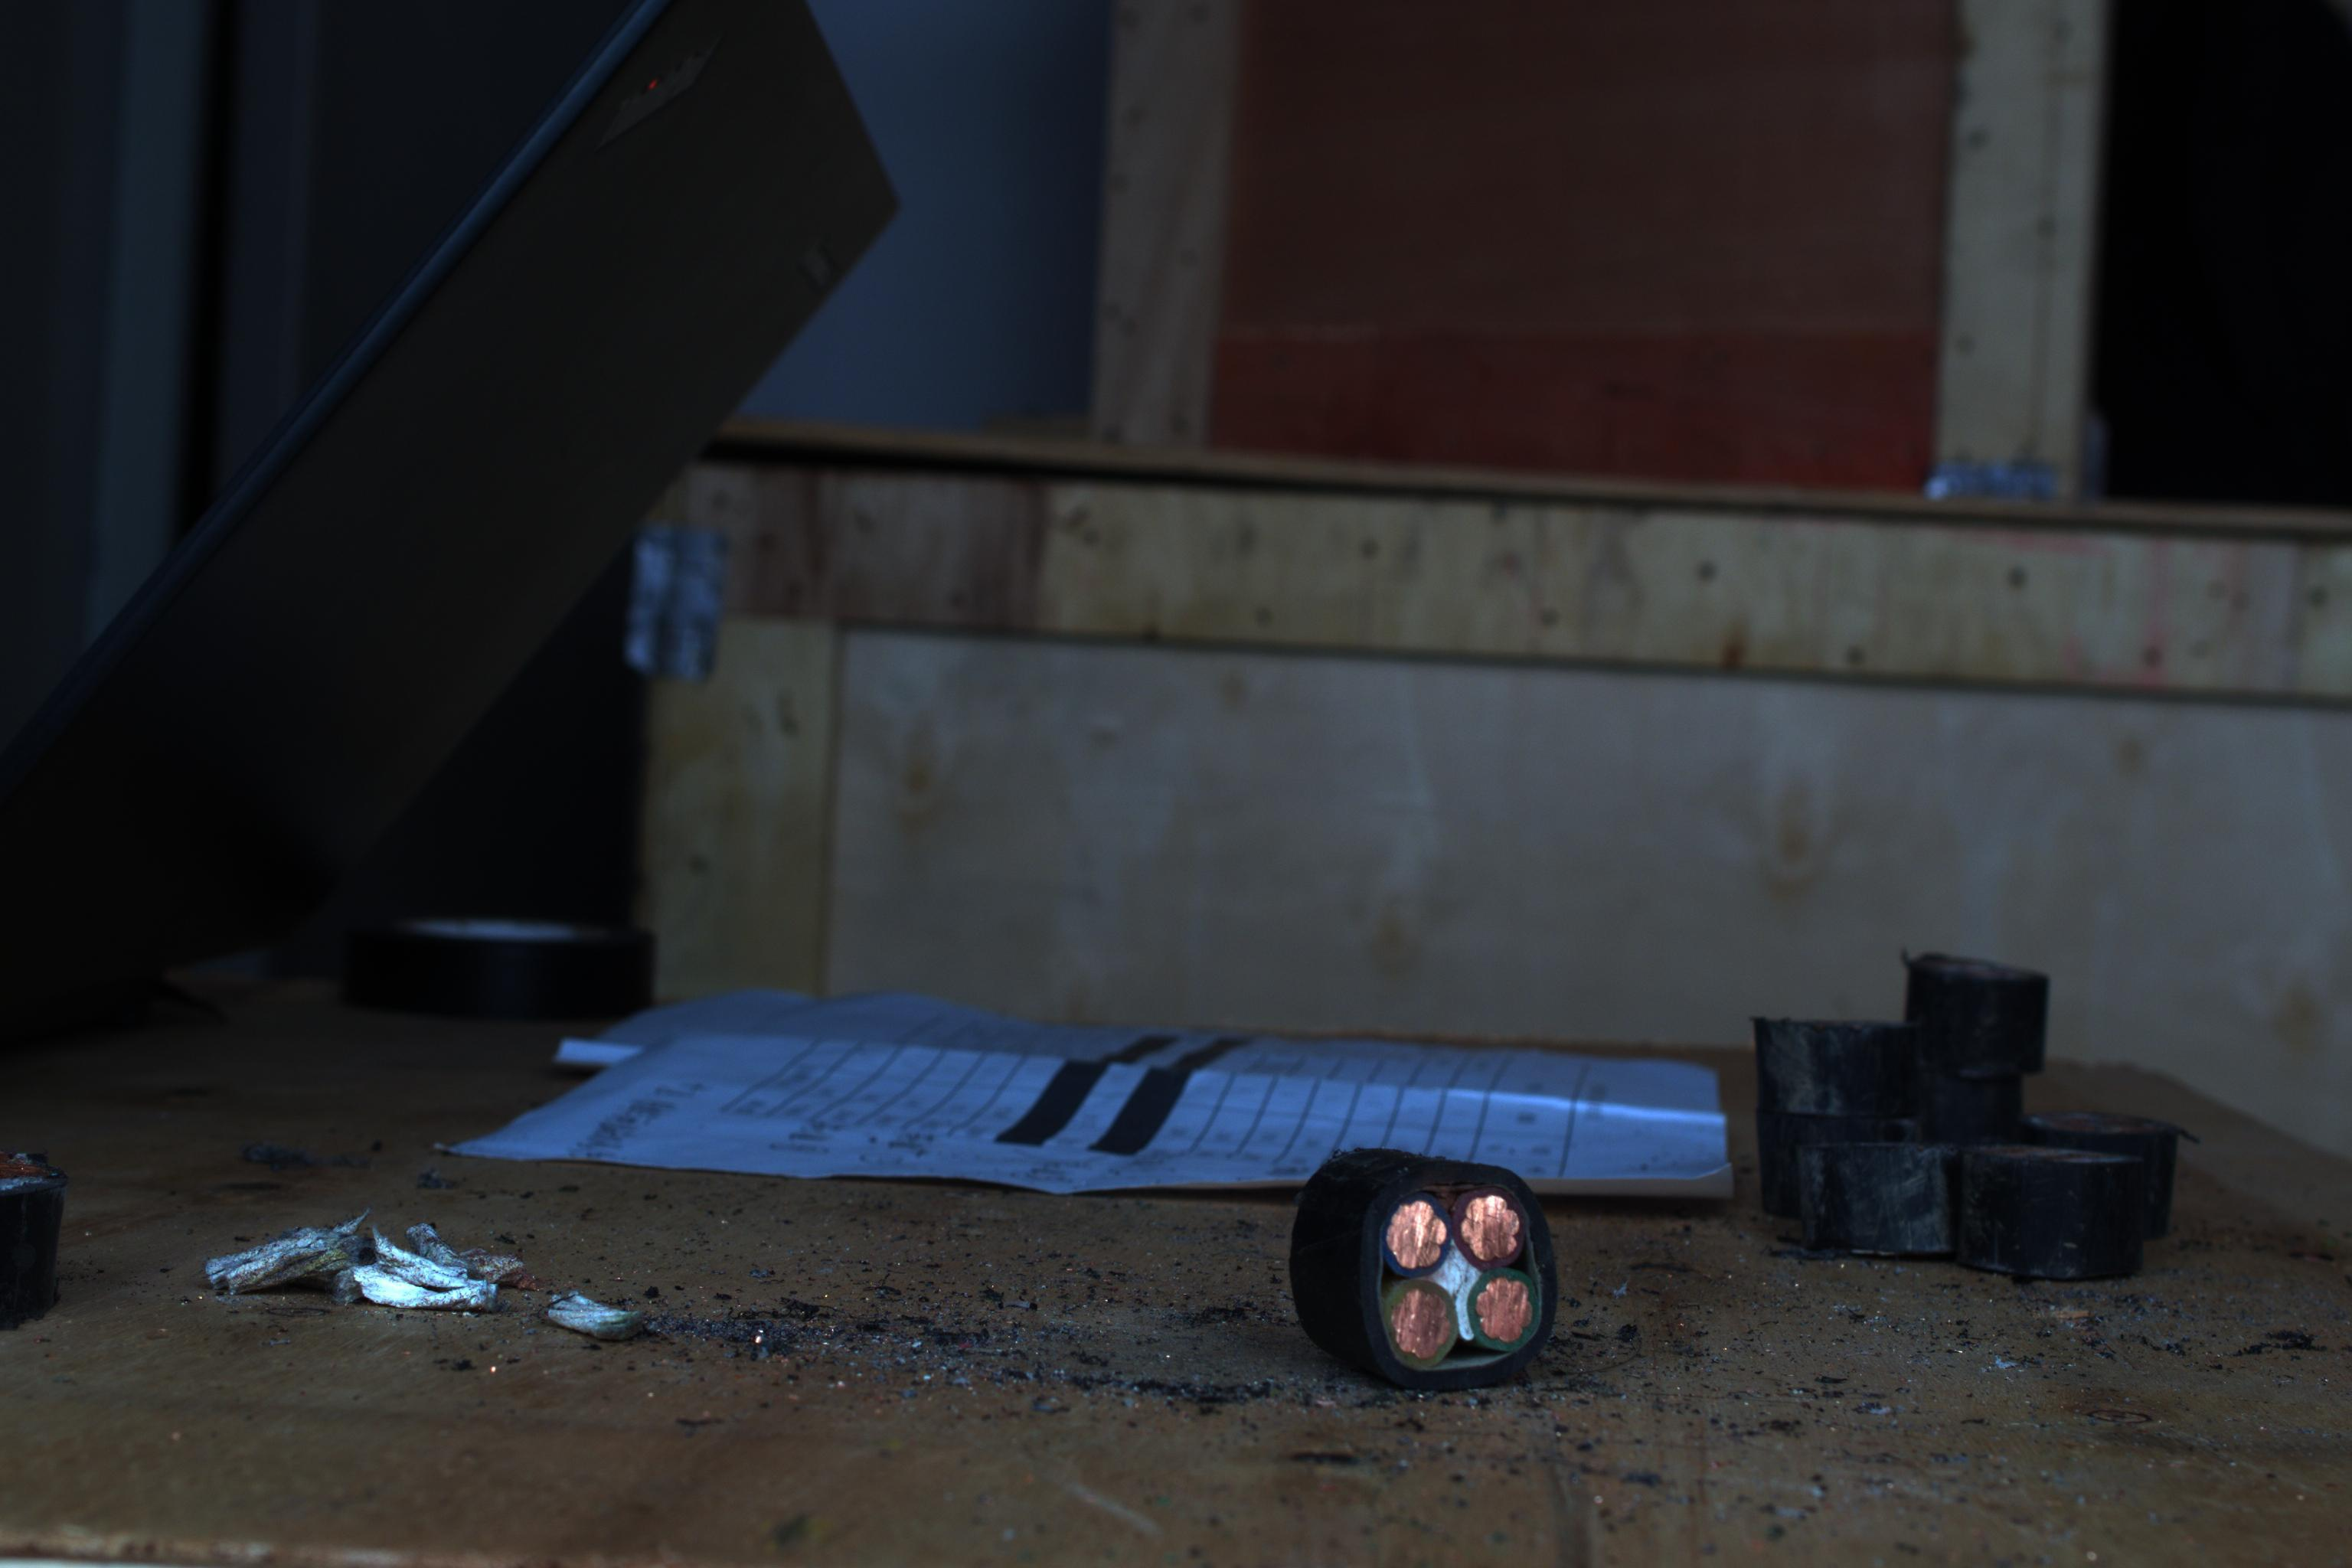YJV_0.6_1kV_4x35: (1318, 1150, 1559, 1396)
